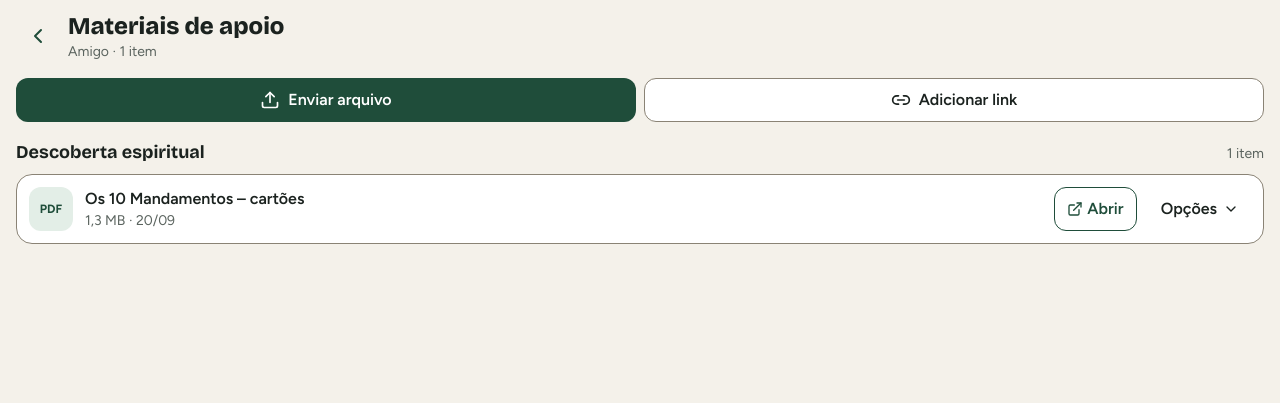
Test: Materiais › o título e o botão "Abrir" da linha abrem o material; o menu fica só com as edições
This screenshot has width=1280, height=403.
Click the button "Opções" at (1200, 209), box [1149,187,1251,231]
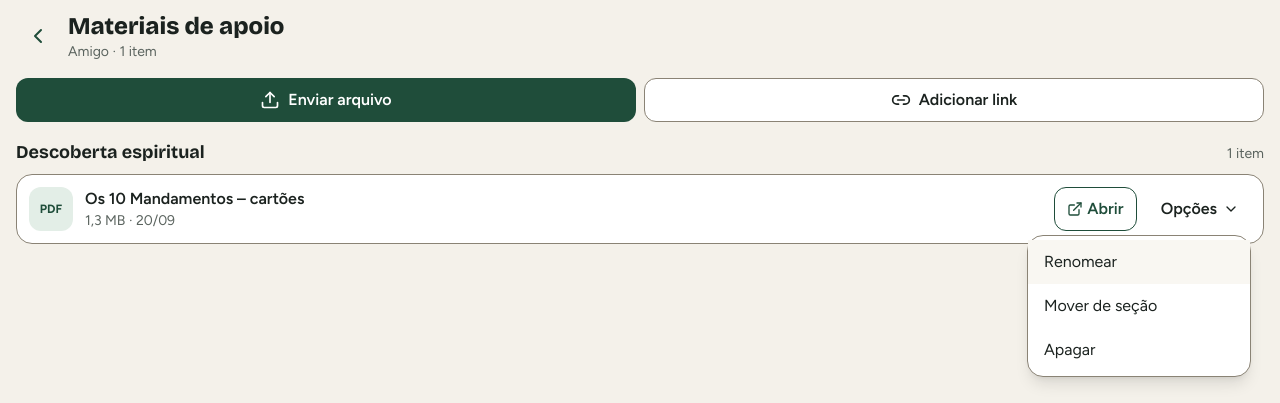
Now the menu item "Renomear" is shown, box [1028,240,1250,284]
